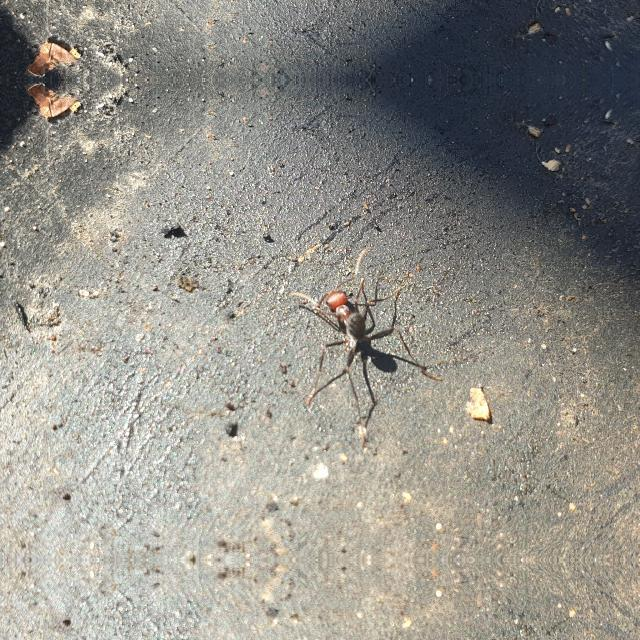Cataglyphis: (304, 280, 418, 388), (111, 90, 127, 106), (111, 54, 127, 70)
